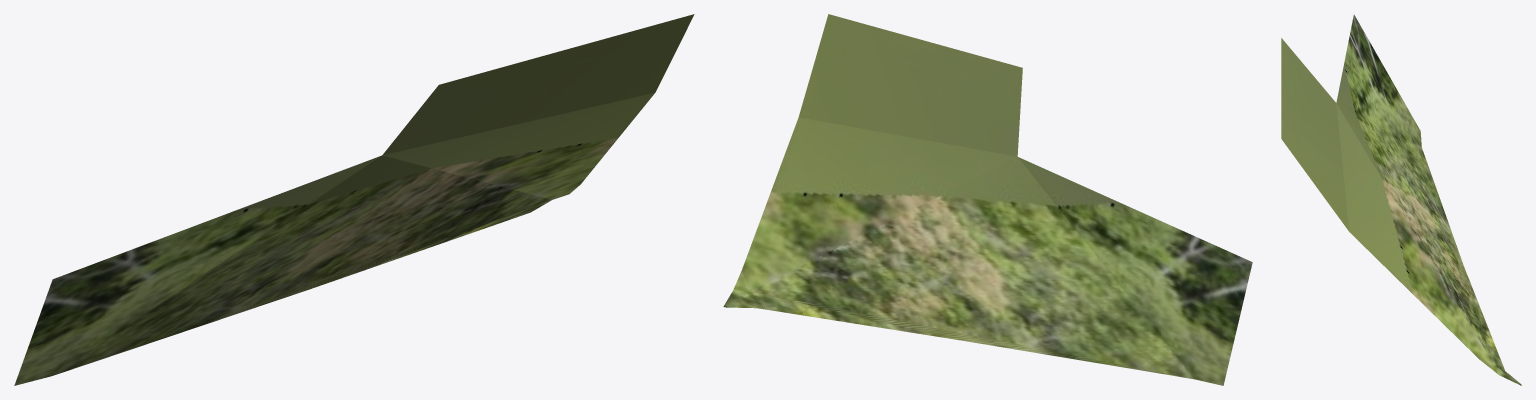
3 renders of one model, left to right at view 1: azimuth 30°, elevation 25°; view 2: azimuth 150°, elevation 25°; view 3: azimuth 270°, elevation 25°, orthographic. The views are drawn at different scales.
Size of the model in its own units: 26.11 by 11.82 by 10.42.
Materials: 1 (1 with a texture image).
